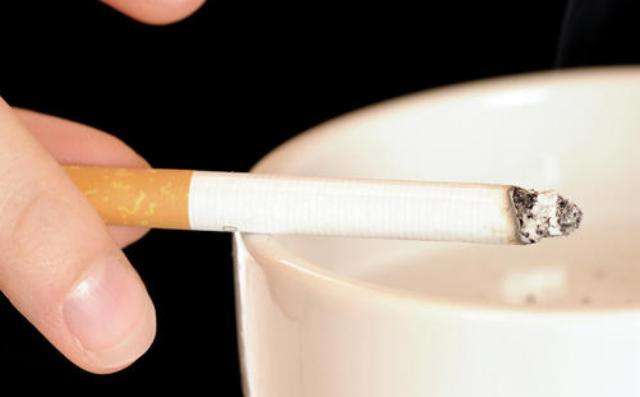Smoking: (56, 162, 584, 254)
